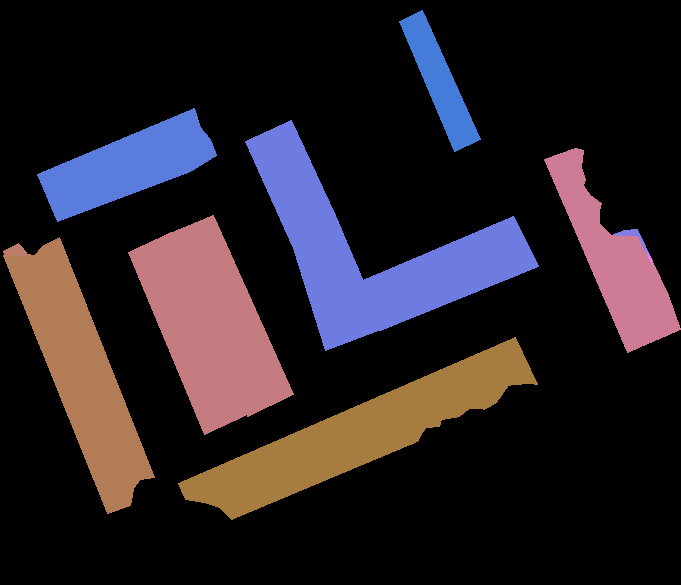parkingspot: (178, 337, 537, 519), (3, 237, 154, 513), (245, 120, 383, 350), (544, 148, 680, 352), (167, 215, 293, 416), (128, 232, 249, 434), (360, 216, 538, 330), (37, 108, 216, 221), (399, 10, 480, 151)
